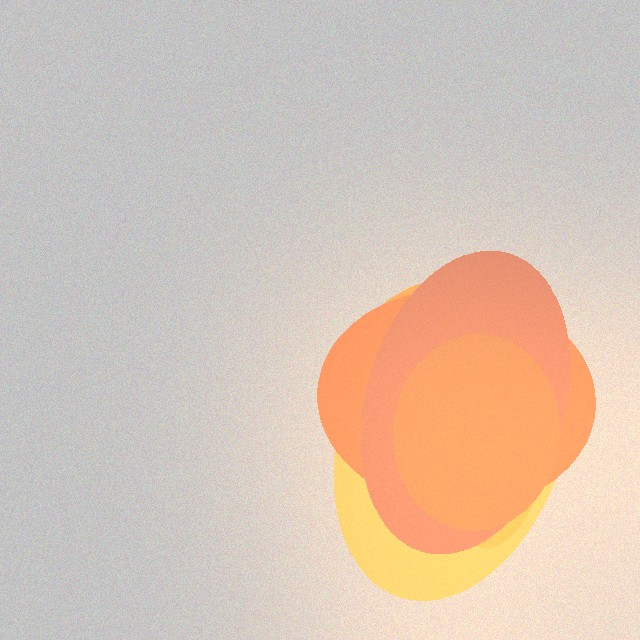fire: (335, 311, 577, 577)
